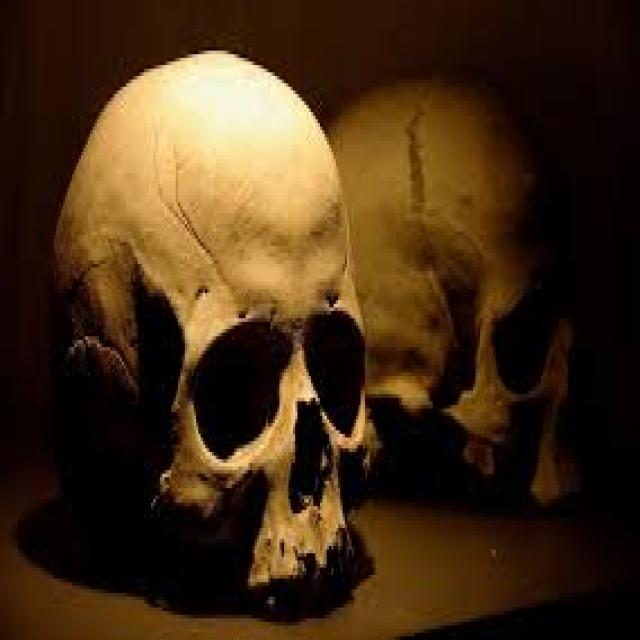skull: (43, 45, 390, 620)
